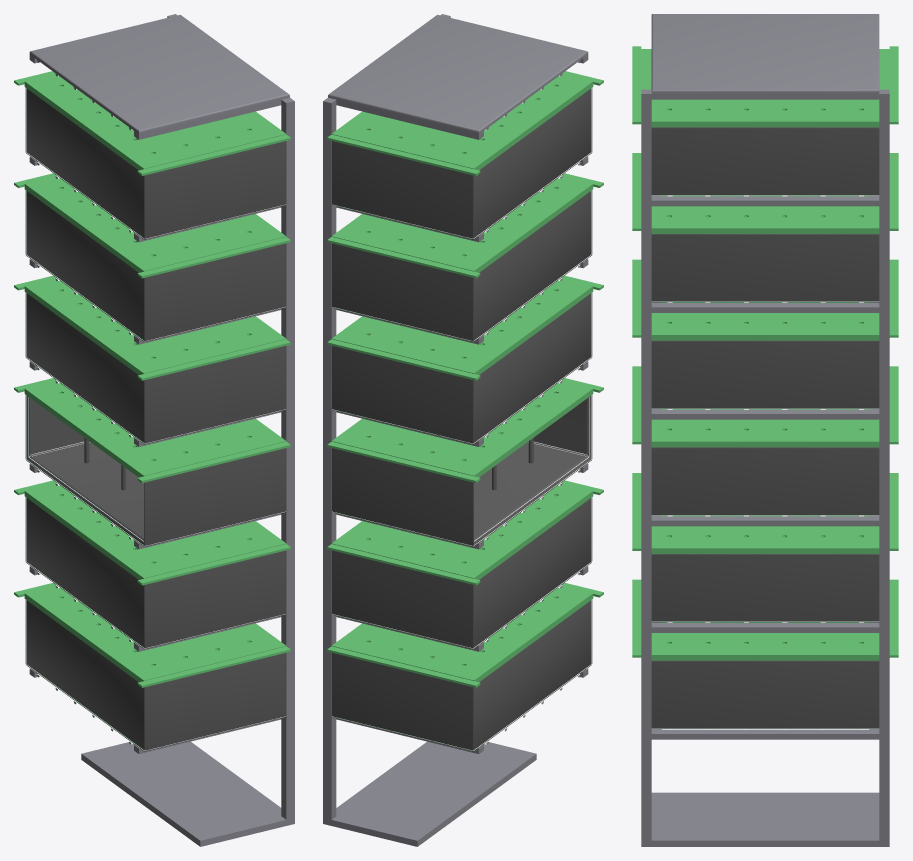
The model's file is veksthus.glb.
3 views of the same model, side by side, from view 1: azimuth 30°, elevation 25°; view 2: azimuth 150°, elevation 25°; view 3: azimuth 270°, elevation 25° (orthographic). The views are drawn at different scales.
Visible parts, largest first — view 1: boks.007; view 2: boks.007; view 3: boks.007.
Boxes of the visible parts, left/top/right/bottom form: boks.007: left=14, top=14, right=294, bottom=846; boks.007: left=323, top=14, right=603, bottom=846; boks.007: left=632, top=14, right=898, bottom=846.
Bounding box in the file's own units: 1.48 × 6.53 × 2.08.
